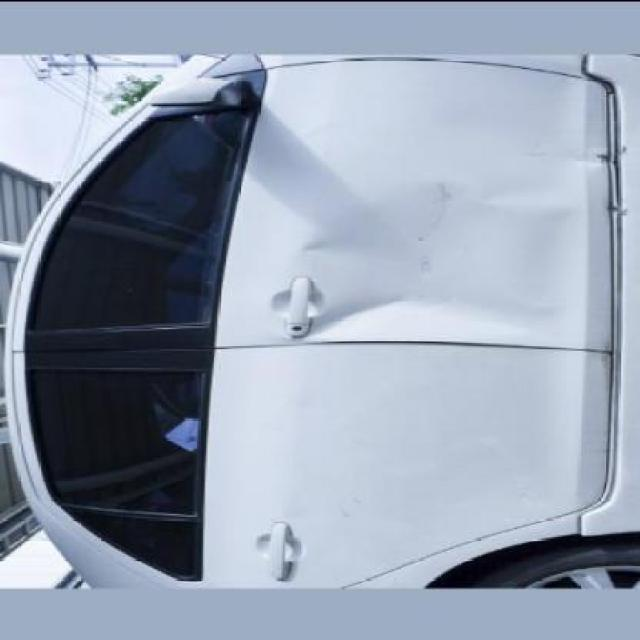damage: (270, 144, 618, 356)
